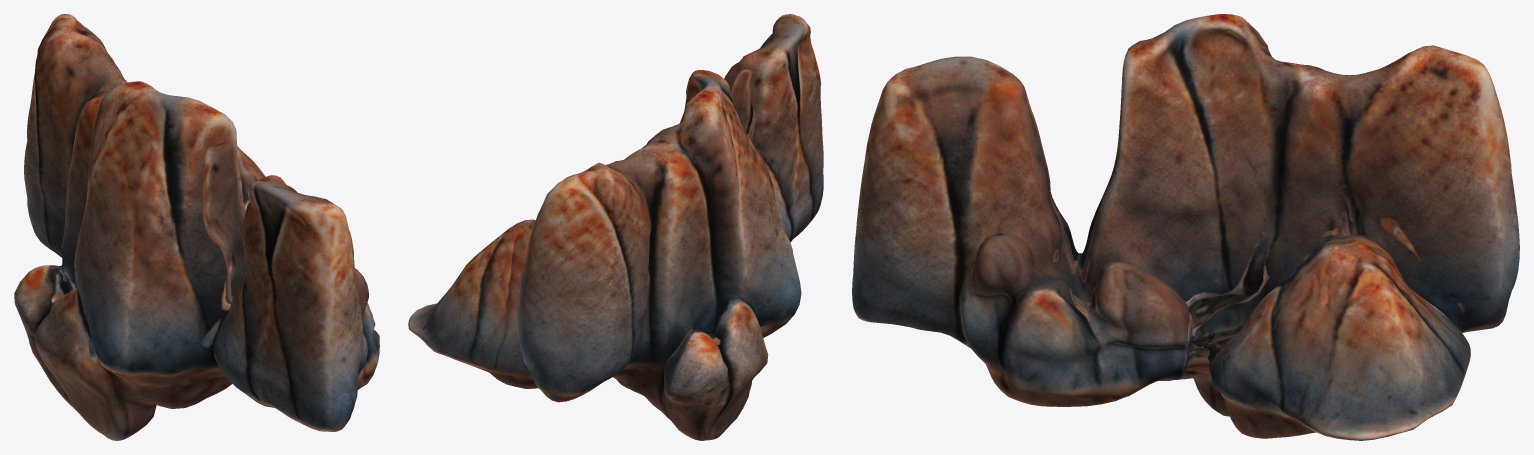
File: ba3ef8b81b34_Jagged_Martian_Clay.fbx
The picture shows the model from 3 angles, left to right: view 1: azimuth 30°, elevation 25°; view 2: azimuth 150°, elevation 25°; view 3: azimuth 270°, elevation 25°; orthographic projection. The views are drawn at different scales.
Visible parts, largest first — view 1: mesh; view 2: mesh; view 3: mesh.
Part boxes in pixels (x1,y1,x2,y2): mesh: (14, 14, 379, 440); mesh: (408, 14, 823, 440); mesh: (852, 14, 1519, 440).
Size of the model in its own units: 63.81 by 67.2 by 99.98.
